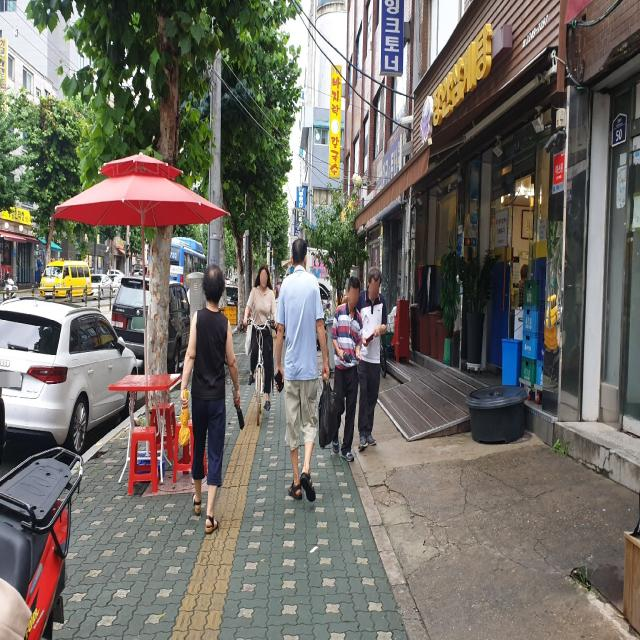car: (0, 300, 136, 456), (112, 276, 190, 374), (40, 258, 92, 302), (88, 274, 112, 300)
motorbike: (0, 448, 77, 640), (3, 272, 18, 302)
